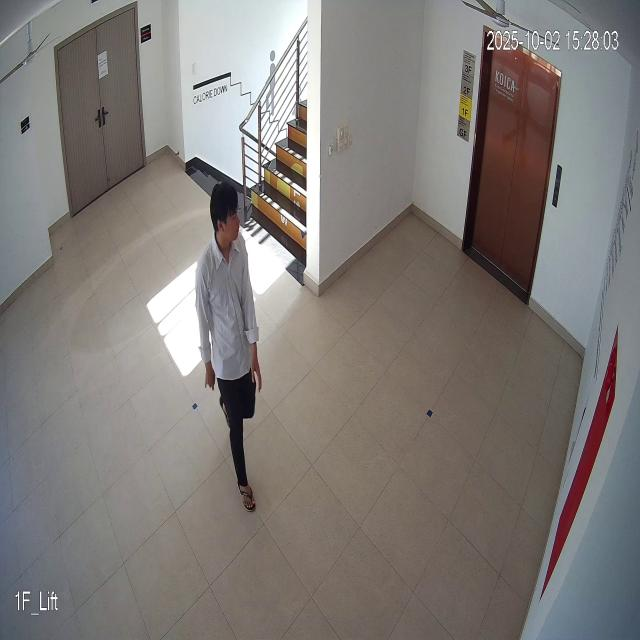face: (206, 178, 246, 248)
